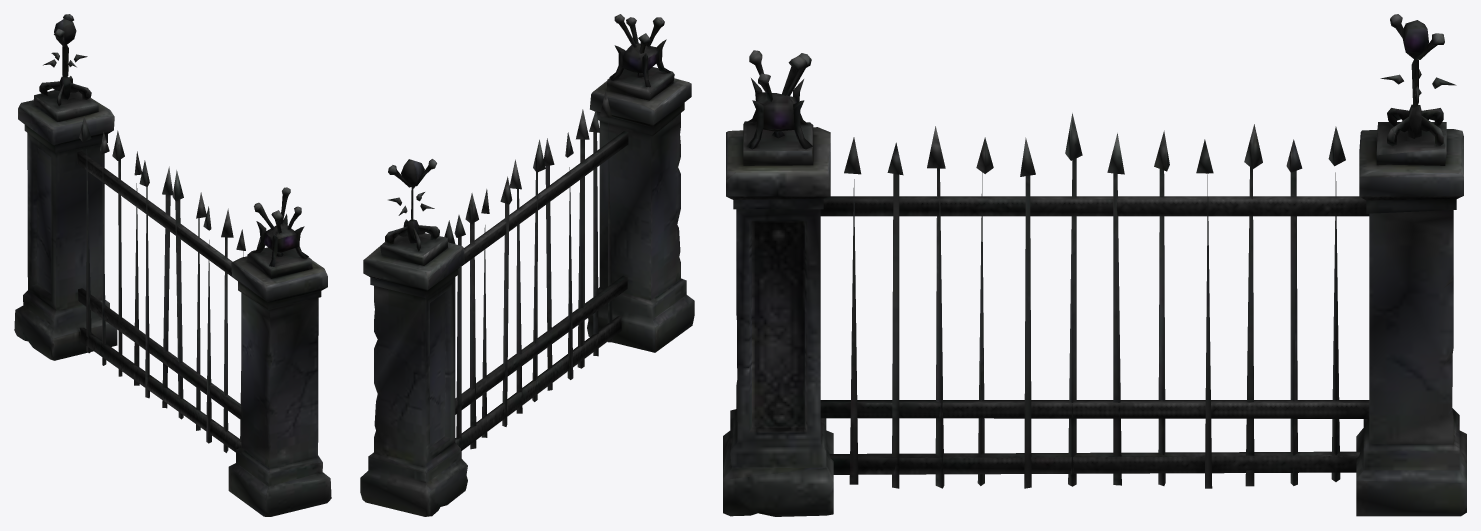
The model's file is fence.glb.
3 views of the same model, side by side, from view 1: azimuth 30°, elevation 25°; view 2: azimuth 150°, elevation 25°; view 3: azimuth 270°, elevation 25° (orthographic). The views are drawn at different scales.
Parts seen in each view (by area): view 1: tripo_node_411c0ef2-d733-4fbe-bcb3-09c8bf00bf7a; view 2: tripo_node_411c0ef2-d733-4fbe-bcb3-09c8bf00bf7a; view 3: tripo_node_411c0ef2-d733-4fbe-bcb3-09c8bf00bf7a.
Part boxes in pixels (box(x1,y1,x2,y2)): tripo_node_411c0ef2-d733-4fbe-bcb3-09c8bf00bf7a: box(14, 14, 331, 516); tripo_node_411c0ef2-d733-4fbe-bcb3-09c8bf00bf7a: box(360, 14, 694, 516); tripo_node_411c0ef2-d733-4fbe-bcb3-09c8bf00bf7a: box(723, 14, 1466, 516).
Size of the model in its own units: 0.1503 by 0.7012 by 0.998.
Materials: 1 (1 with a texture image).
